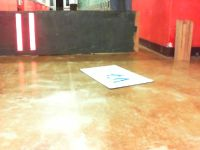switch: (15, 13, 23, 52), (29, 13, 36, 50)
